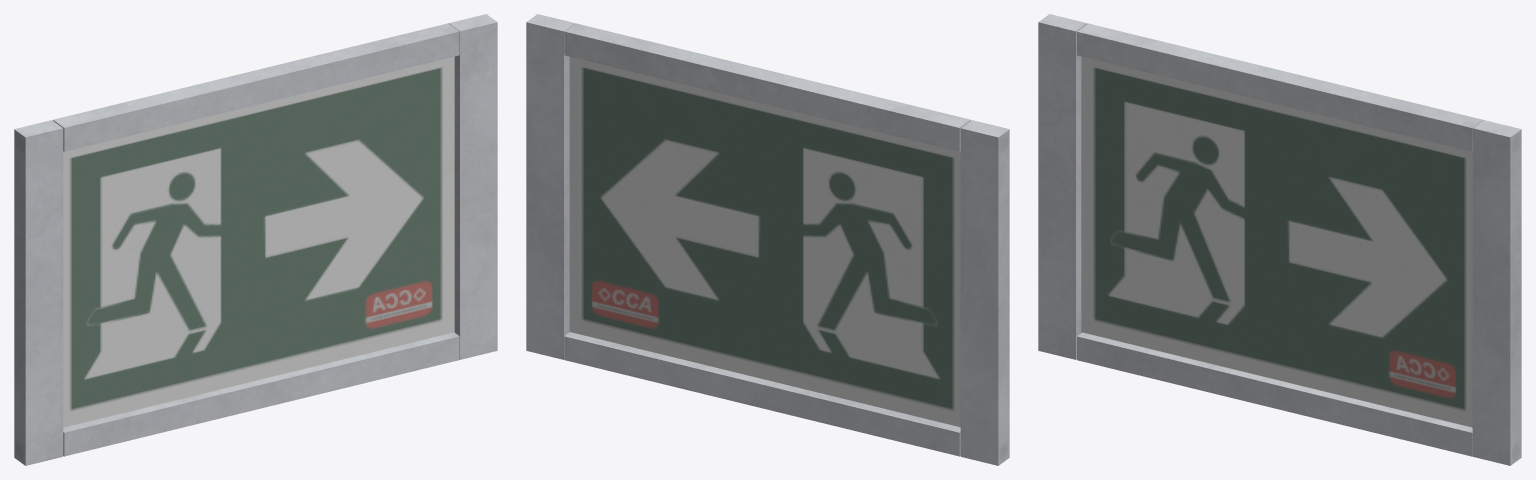
Rendered from SM_Sign_Exit_01c.fbx.
The picture shows the model from 3 angles, left to right: view 1: azimuth 30°, elevation 25°; view 2: azimuth 150°, elevation 25°; view 3: azimuth 330°, elevation 25°; orthographic projection.
Visible parts, largest first — view 1: SM_Sign_Exit_01c; view 2: SM_Sign_Exit_01c; view 3: SM_Sign_Exit_01c.
Part boxes in pixels (bbox=[...]): SM_Sign_Exit_01c: bbox=[14, 14, 497, 465]; SM_Sign_Exit_01c: bbox=[526, 14, 1009, 465]; SM_Sign_Exit_01c: bbox=[1038, 14, 1521, 465].
Size of the model in its own units: 60.17 by 2.5 by 40.
Materials: 1 (1 with a texture image).
